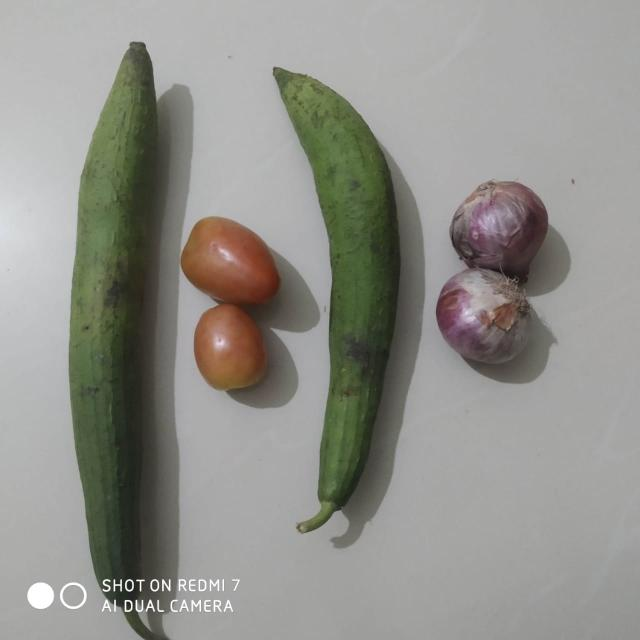Organik: (64, 24, 178, 583), (285, 54, 409, 540), (184, 208, 287, 308), (452, 180, 555, 280), (439, 270, 542, 368), (186, 300, 275, 410)
